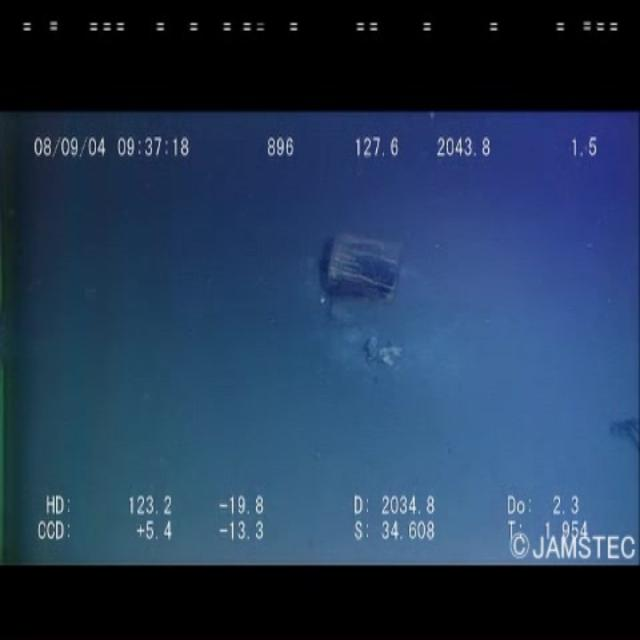Metal: (306, 220, 411, 325)
